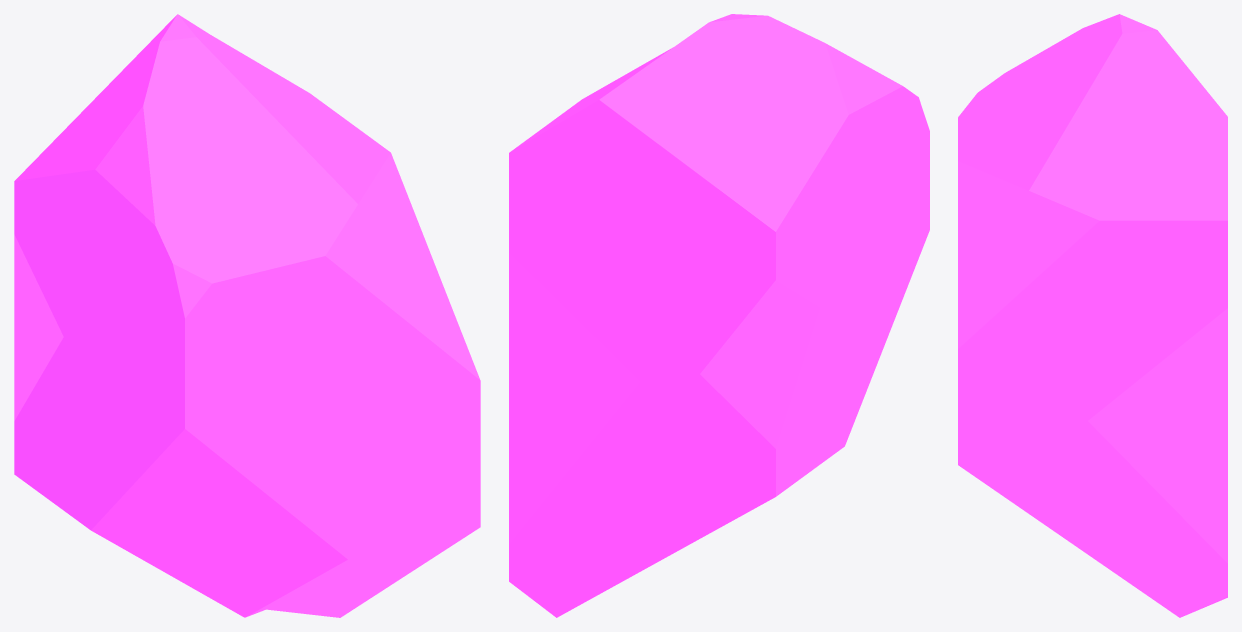
The model's file is crystal2.glb.
The picture shows the model from 3 angles, left to right: view 1: azimuth 30°, elevation 25°; view 2: azimuth 150°, elevation 25°; view 3: azimuth 270°, elevation 25°; orthographic projection. The views are drawn at different scales.
Parts seen in each view (by area): view 1: Cube; view 2: Cube; view 3: Cube.
Boxes of the visible parts, left/top/right/bottom form: Cube: left=14, top=14, right=480, bottom=617; Cube: left=509, top=14, right=929, bottom=617; Cube: left=958, top=14, right=1227, bottom=617.
Bounding box in the file's own units: 2 × 4.25 × 2.
